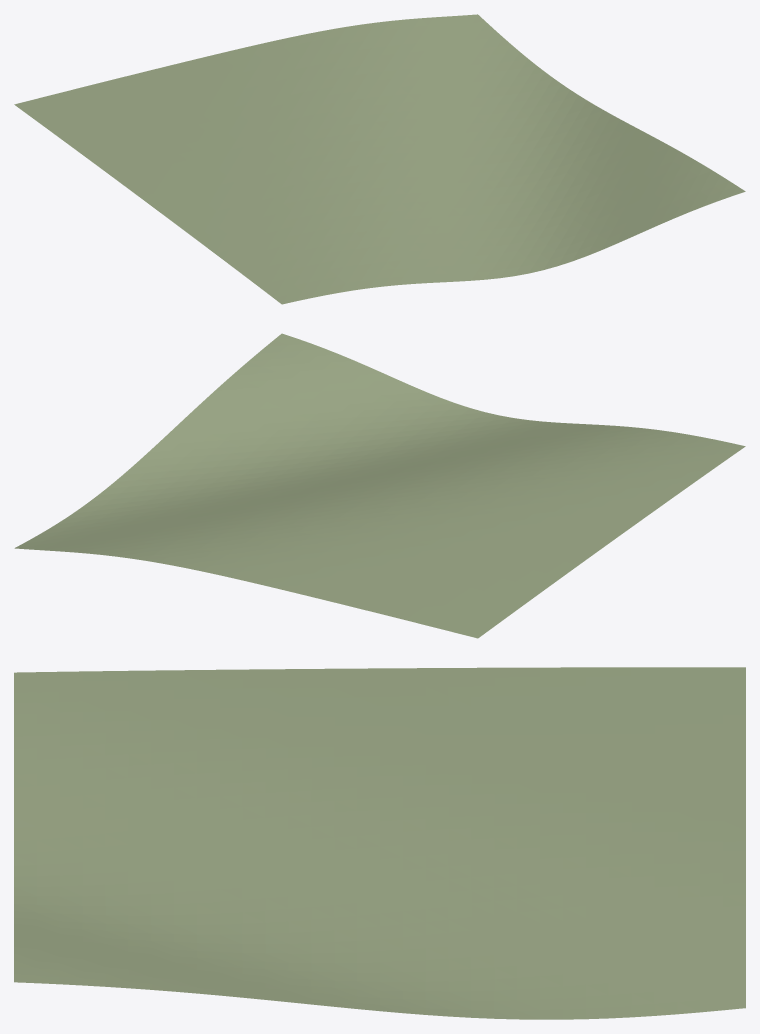
File: desert-11-12.glb
3 renders of one model, top to bottom at view 1: azimuth 30°, elevation 25°; view 2: azimuth 150°, elevation 25°; view 3: azimuth 270°, elevation 25°, orthographic. The views are drawn at different scales.
Visible parts, largest first — view 1: desert-11-12; view 2: desert-11-12; view 3: desert-11-12.
Boxes of the visible parts, x1,y1,x2,y2 form: desert-11-12: (14,14,745,304); desert-11-12: (14,333,745,638); desert-11-12: (14,667,745,1019).
Bounding box in the file's own units: 512 × 36.22 × 512.
